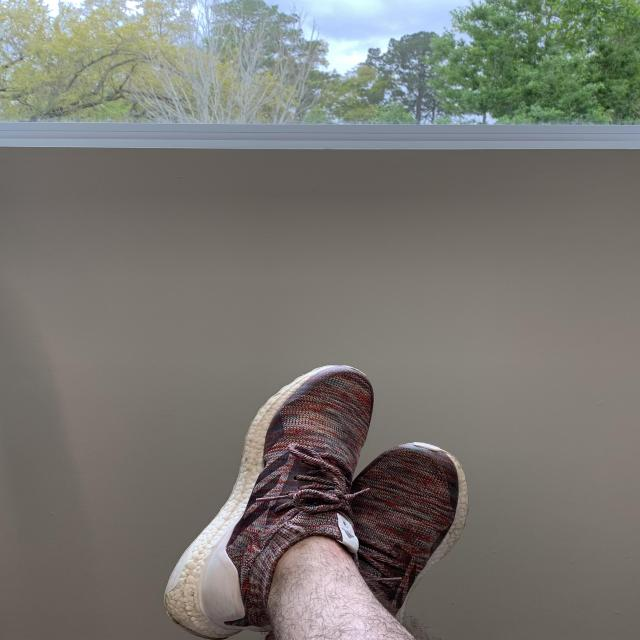shoe: (149, 352, 381, 636), (322, 430, 484, 630)
